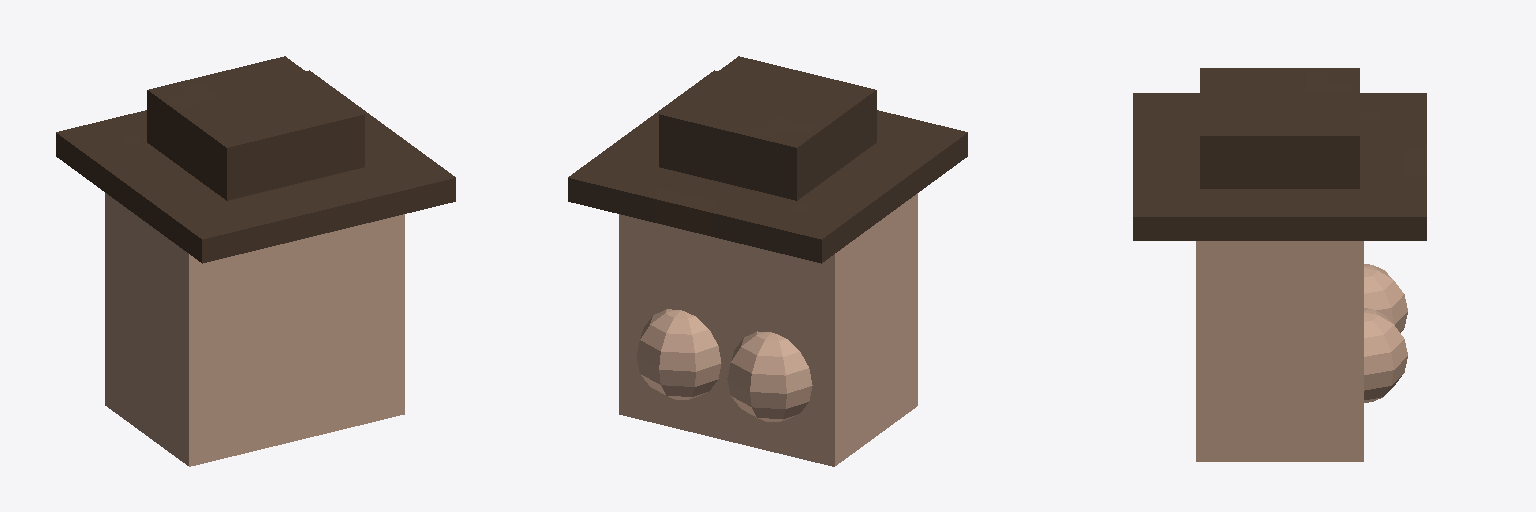
The picture shows the model from 3 angles: view 1: azimuth 30°, elevation 25°; view 2: azimuth 150°, elevation 25°; view 3: azimuth 270°, elevation 25°; orthographic projection.
Parts seen in each view (by area): view 1: Cube.001; view 2: Cube.001; view 3: Cube.001.
Part boxes in pixels (left/top/right/bottom): Cube.001: left=56, top=56, right=455, bottom=466; Cube.001: left=568, top=56, right=967, bottom=466; Cube.001: left=1133, top=68, right=1426, bottom=461.
Size of the model in its own units: 0.8199 by 0.949 by 0.8199.
Materials: 1 (1 with a texture image).